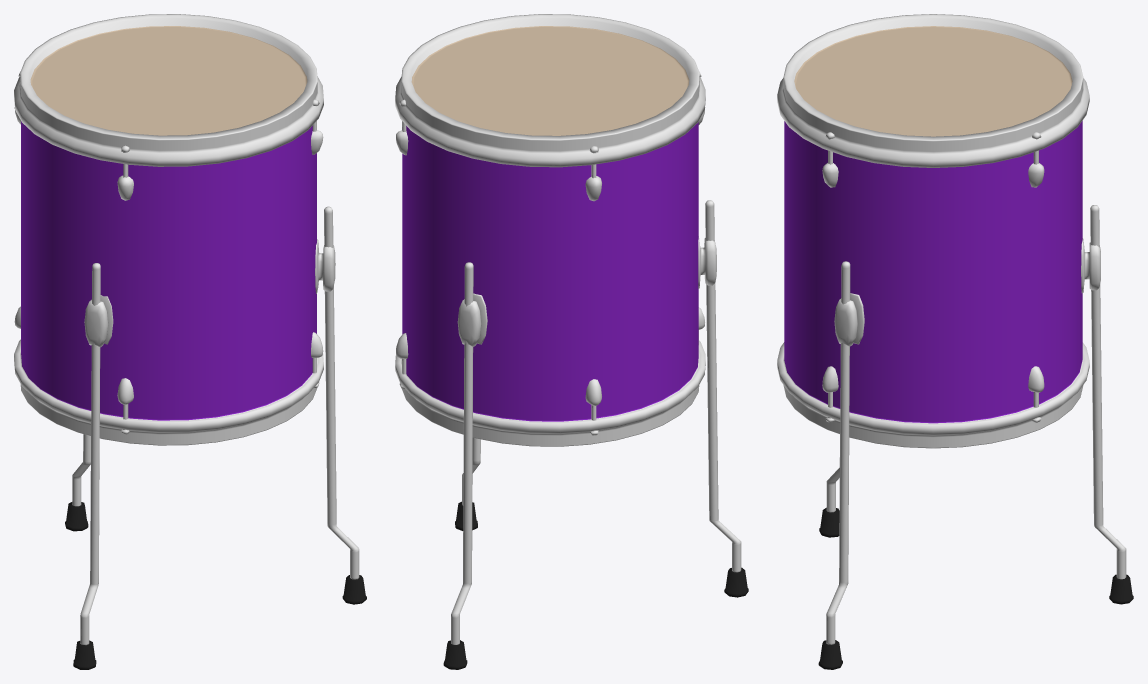
File: FloorTom.fbx
3 renders of one model, left to right at view 1: azimuth 30°, elevation 25°; view 2: azimuth 150°, elevation 25°; view 3: azimuth 270°, elevation 25°, orthographic.
Parts seen in each view (by area): view 1: FloorTom_LOD0; view 2: FloorTom_LOD0; view 3: FloorTom_LOD0.
Part boxes in pixels (x1,y1,x2,y2): FloorTom_LOD0: (14,14,366,669); FloorTom_LOD0: (395,14,748,669); FloorTom_LOD0: (777,14,1133,669).
Size of what is drawn, in the model's own units: 132 by 226 by 140.
